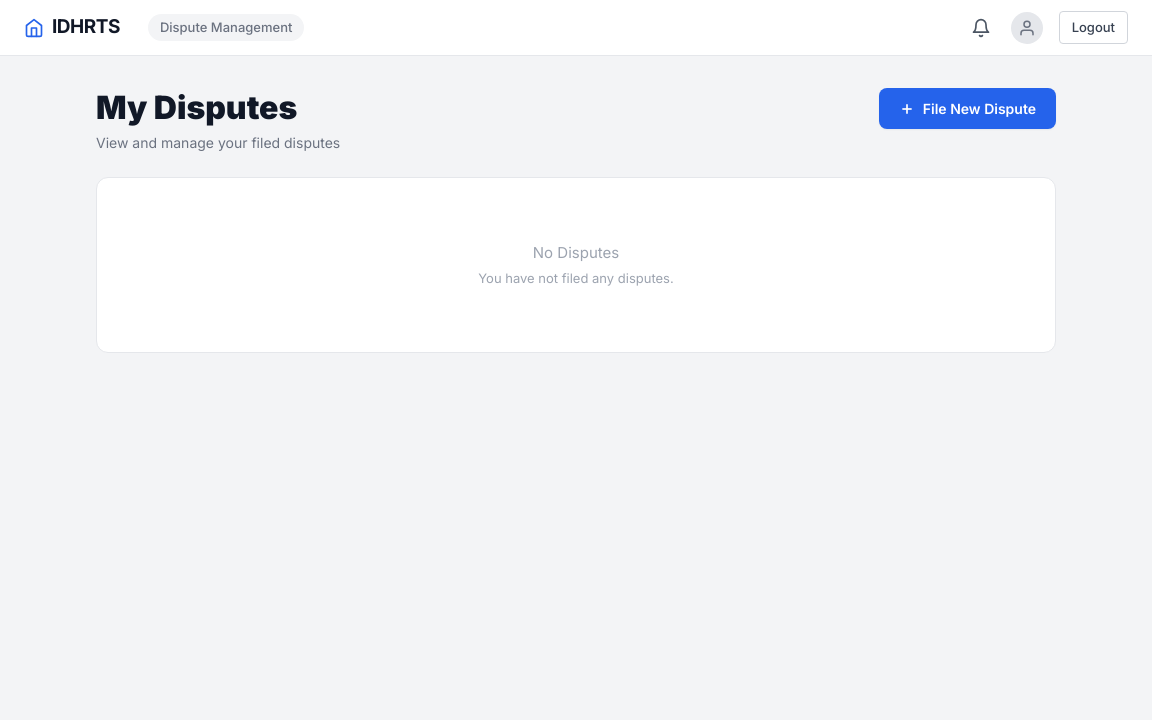
Test: DisputesDashboard › opens modal, files a dispute successfully and refetches
The image size is (1152, 720).
Click the button "File New Dispute" at (967, 108), box [879,88,1056,129]
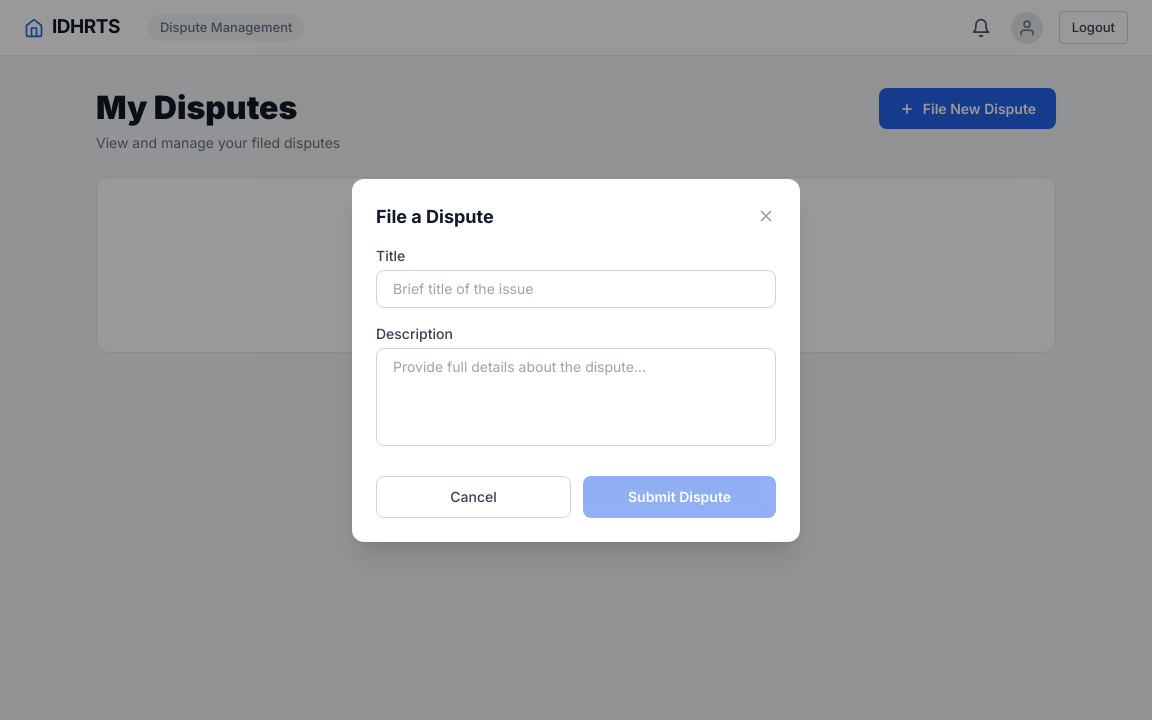
Expected: the heading "File a Dispute" is shown, [376,202,494,230]
Type "Water Leaking" into the field with placeholder "Brief title of the issue" at (576, 288), box [376,270,776,308]
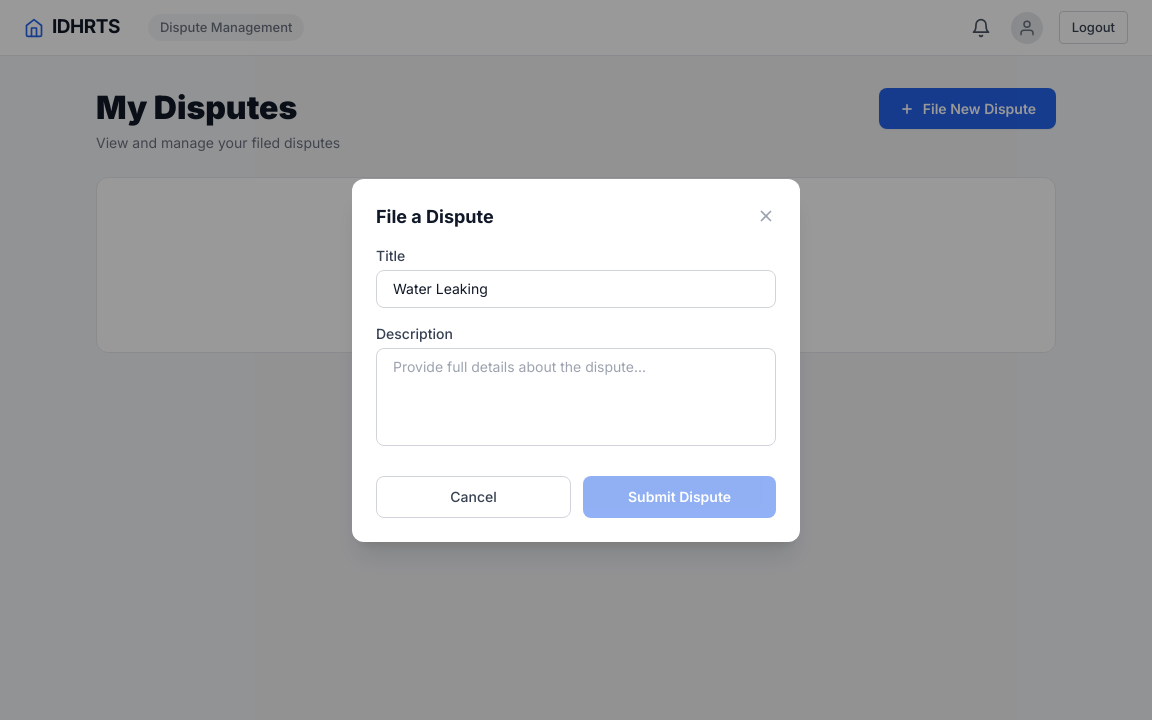
Type "Pipe has been leaking for two weeks" into the text box with placeholder "Provide full details about the dispute..." at (576, 396), box [376,348,776,446]
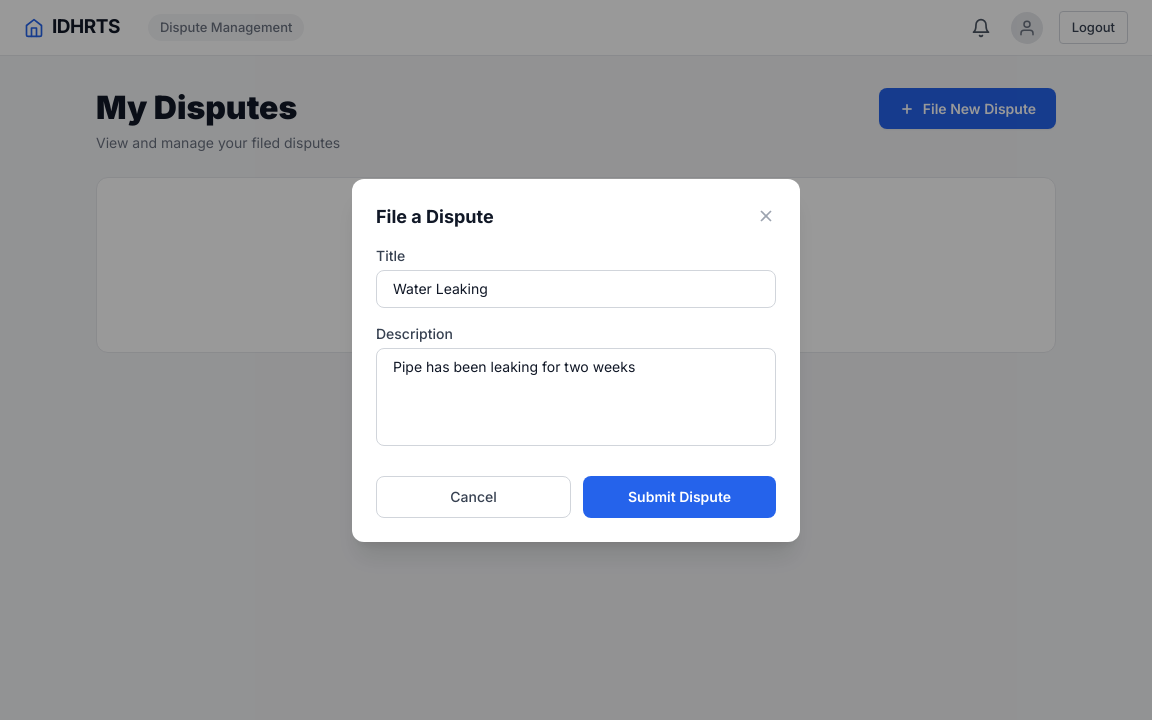
Click the button "Submit Dispute" at (680, 496), box [583,476,776,518]
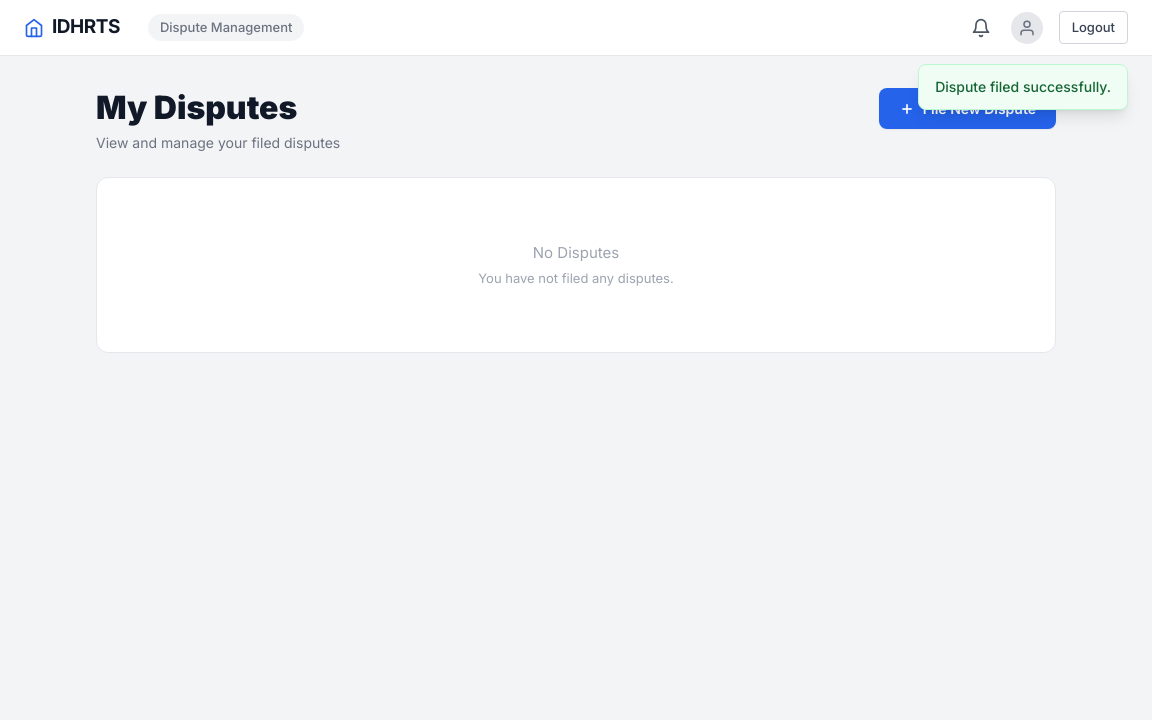
Expected: the text "Dispute filed successfully." is shown, [918,64,1128,110]
